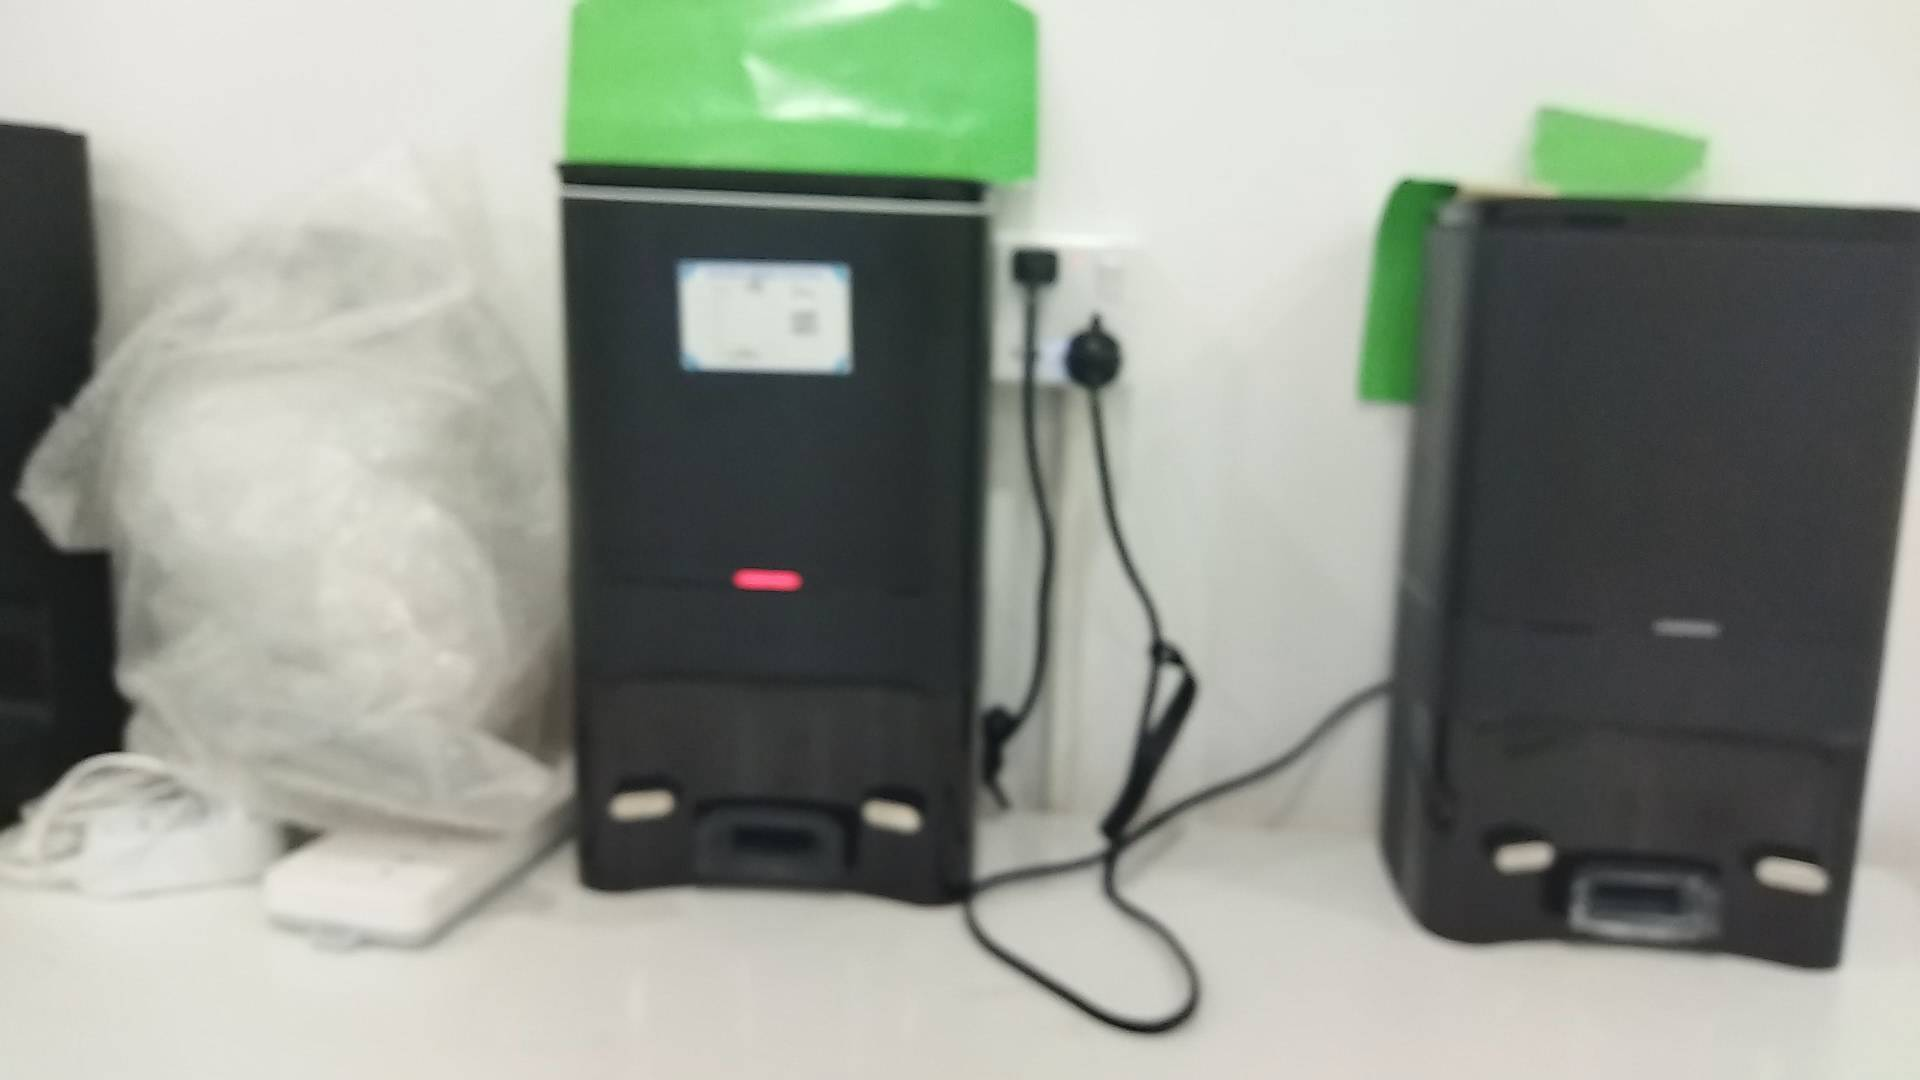dust collecting barrel: (1379, 196, 1920, 975), (554, 164, 997, 910)
